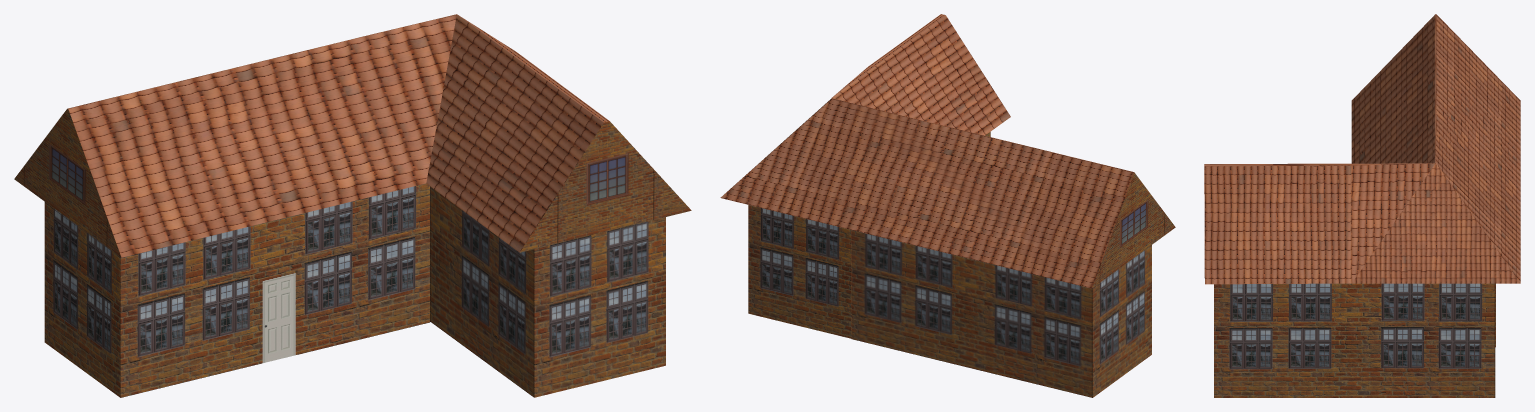
File: house4.fbx
3 renders of one model, left to right at view 1: azimuth 30°, elevation 25°; view 2: azimuth 150°, elevation 25°; view 3: azimuth 270°, elevation 25°, orthographic. The views are drawn at different scales.
Visible parts, largest first — view 1: Cube.001, Cube, Cube.002; view 2: Cube.001, Cube, Cube.002; view 3: Cube.001, Cube.002.
Boxes of the visible parts, x1=… form: Cube.001: x1=14, y1=14, x2=691, y2=257; Cube: x1=44, y1=183, x2=430, y2=397; Cube.002: x1=430, y1=186, x2=665, y2=397; Cube.001: x1=720, y1=14, x2=1175, y2=288; Cube: x1=851, y1=230, x2=1151, y2=397; Cube.002: x1=748, y1=132, x2=990, y2=338; Cube.001: x1=1204, y1=14, x2=1520, y2=284; Cube.002: x1=1214, y1=283, x2=1495, y2=397.
Size of the model in its own units: 1938 by 1028 by 1414.
Materials: 7 (6 with a texture image).
